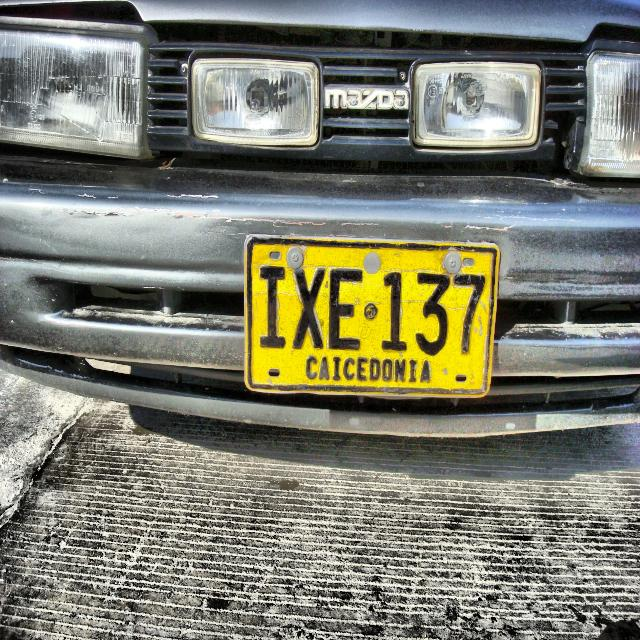plate: (247, 236, 497, 392)
